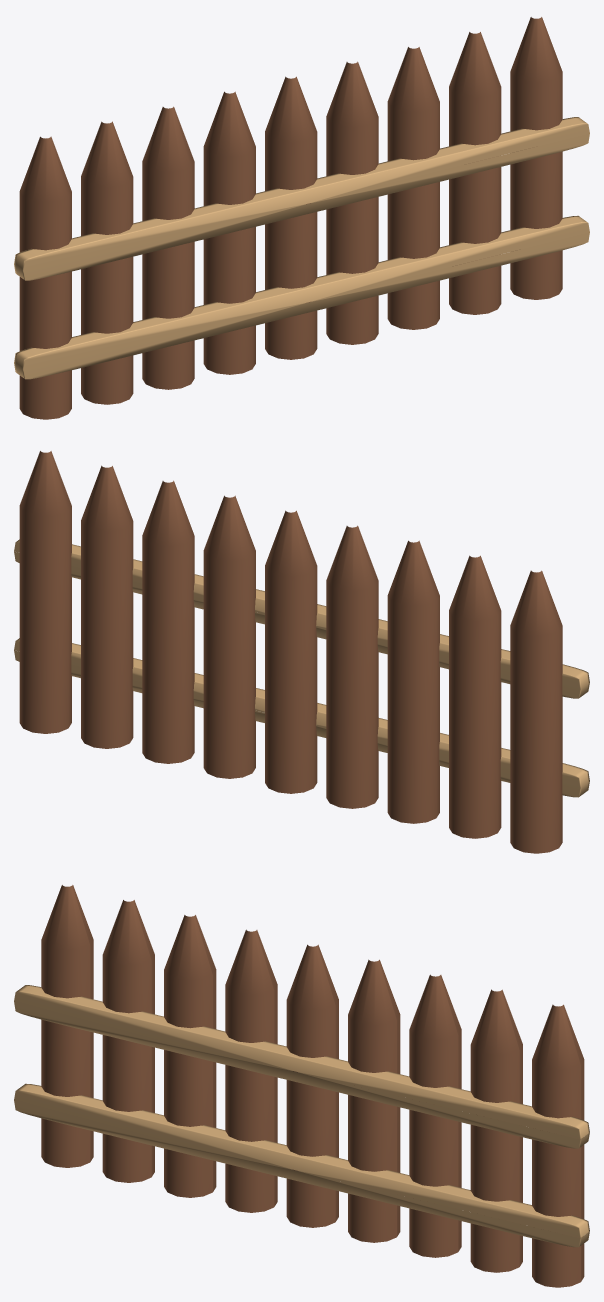
Rendered from barricade.glb.
The picture shows the model from 3 angles, top to bottom: view 1: azimuth 30°, elevation 25°; view 2: azimuth 150°, elevation 25°; view 3: azimuth 330°, elevation 25°; orthographic projection.
Parts seen in each view (by area): view 1: palisade_post (×9), cross_timber (×2); view 2: palisade_post (×9), cross_timber (×2); view 3: palisade_post (×9), cross_timber (×2).
Part boxes in pixels (<box>): palisade_post (×9): <box>19,17,562,419</box>; cross_timber (×2): <box>14,117,589,379</box>; palisade_post (×9): <box>19,451,562,853</box>; cross_timber (×2): <box>14,539,589,797</box>; palisade_post (×9): <box>41,885,584,1287</box>; cross_timber (×2): <box>14,985,589,1247</box>.
Size of the model in its own units: 3 by 1.38 by 0.28.
